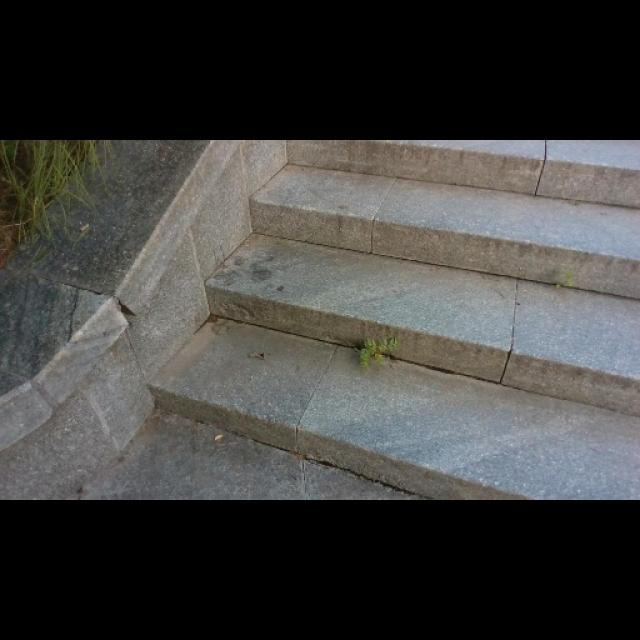Stairs: (140, 140, 639, 499)
